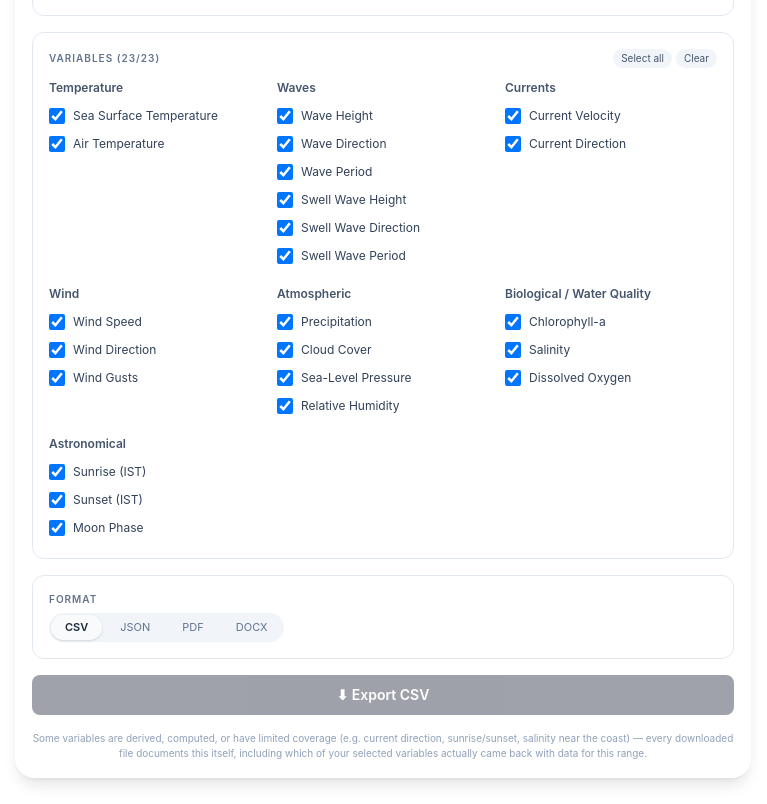
Test: DownloadPage — export gating › switching format updates the Export button label
(page scrolled)
Step 1. Click the button "json" → (135, 628), box [106,615,164,640]
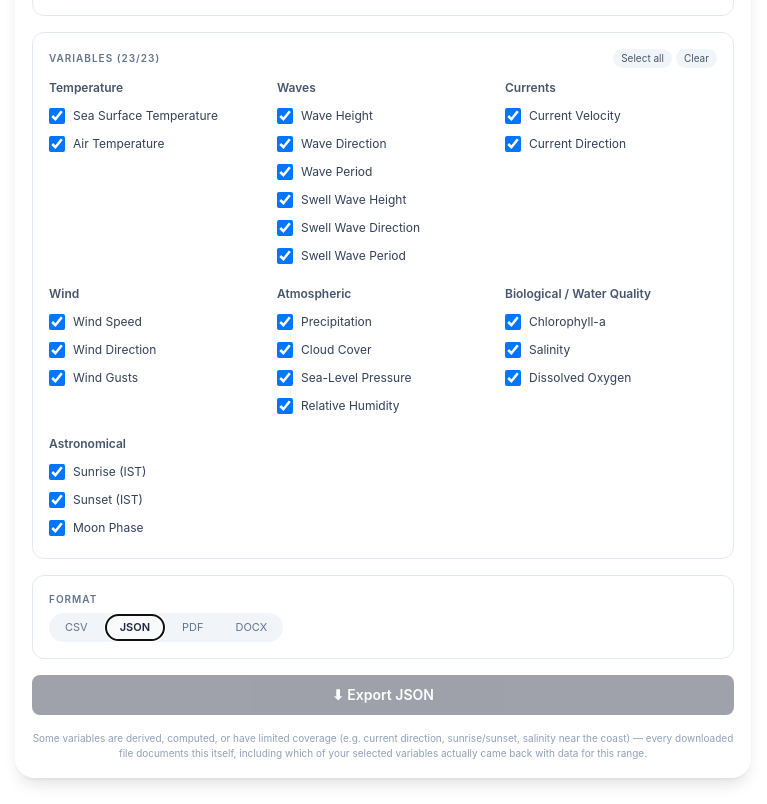
Now the button "⬇ Export JSON" is shown, box [32,675,734,715]
